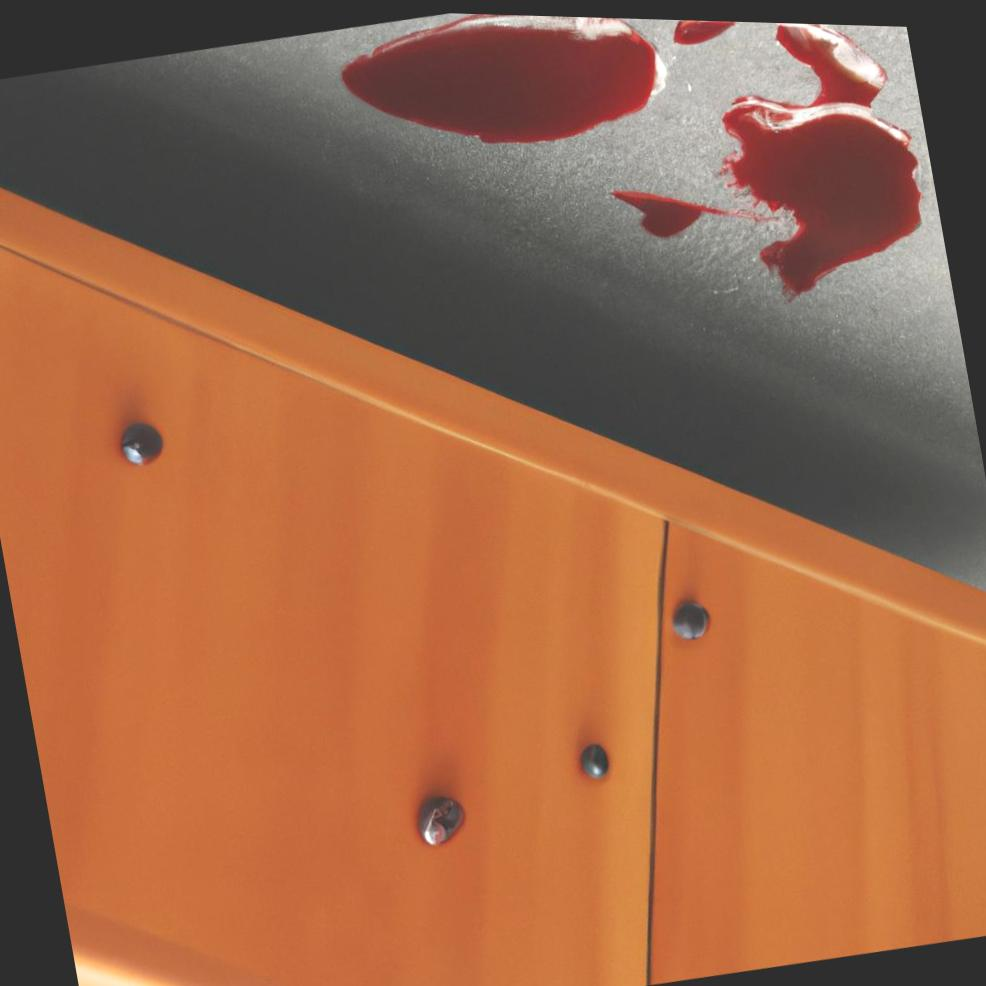Fire: (718, 18, 923, 299), (342, 11, 656, 142), (611, 187, 730, 234), (674, 16, 738, 42)
